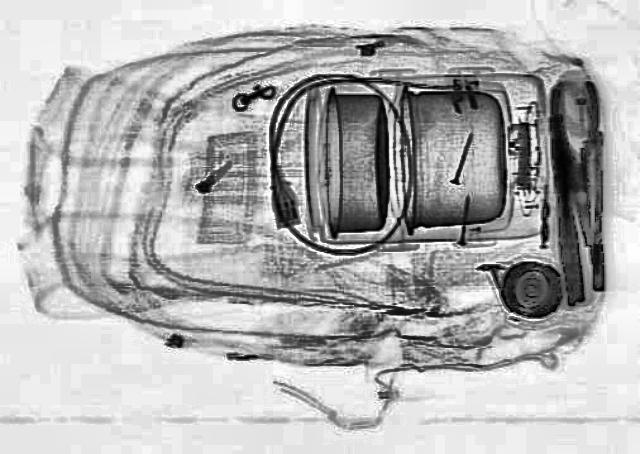Pliers: (546, 80, 608, 244)
